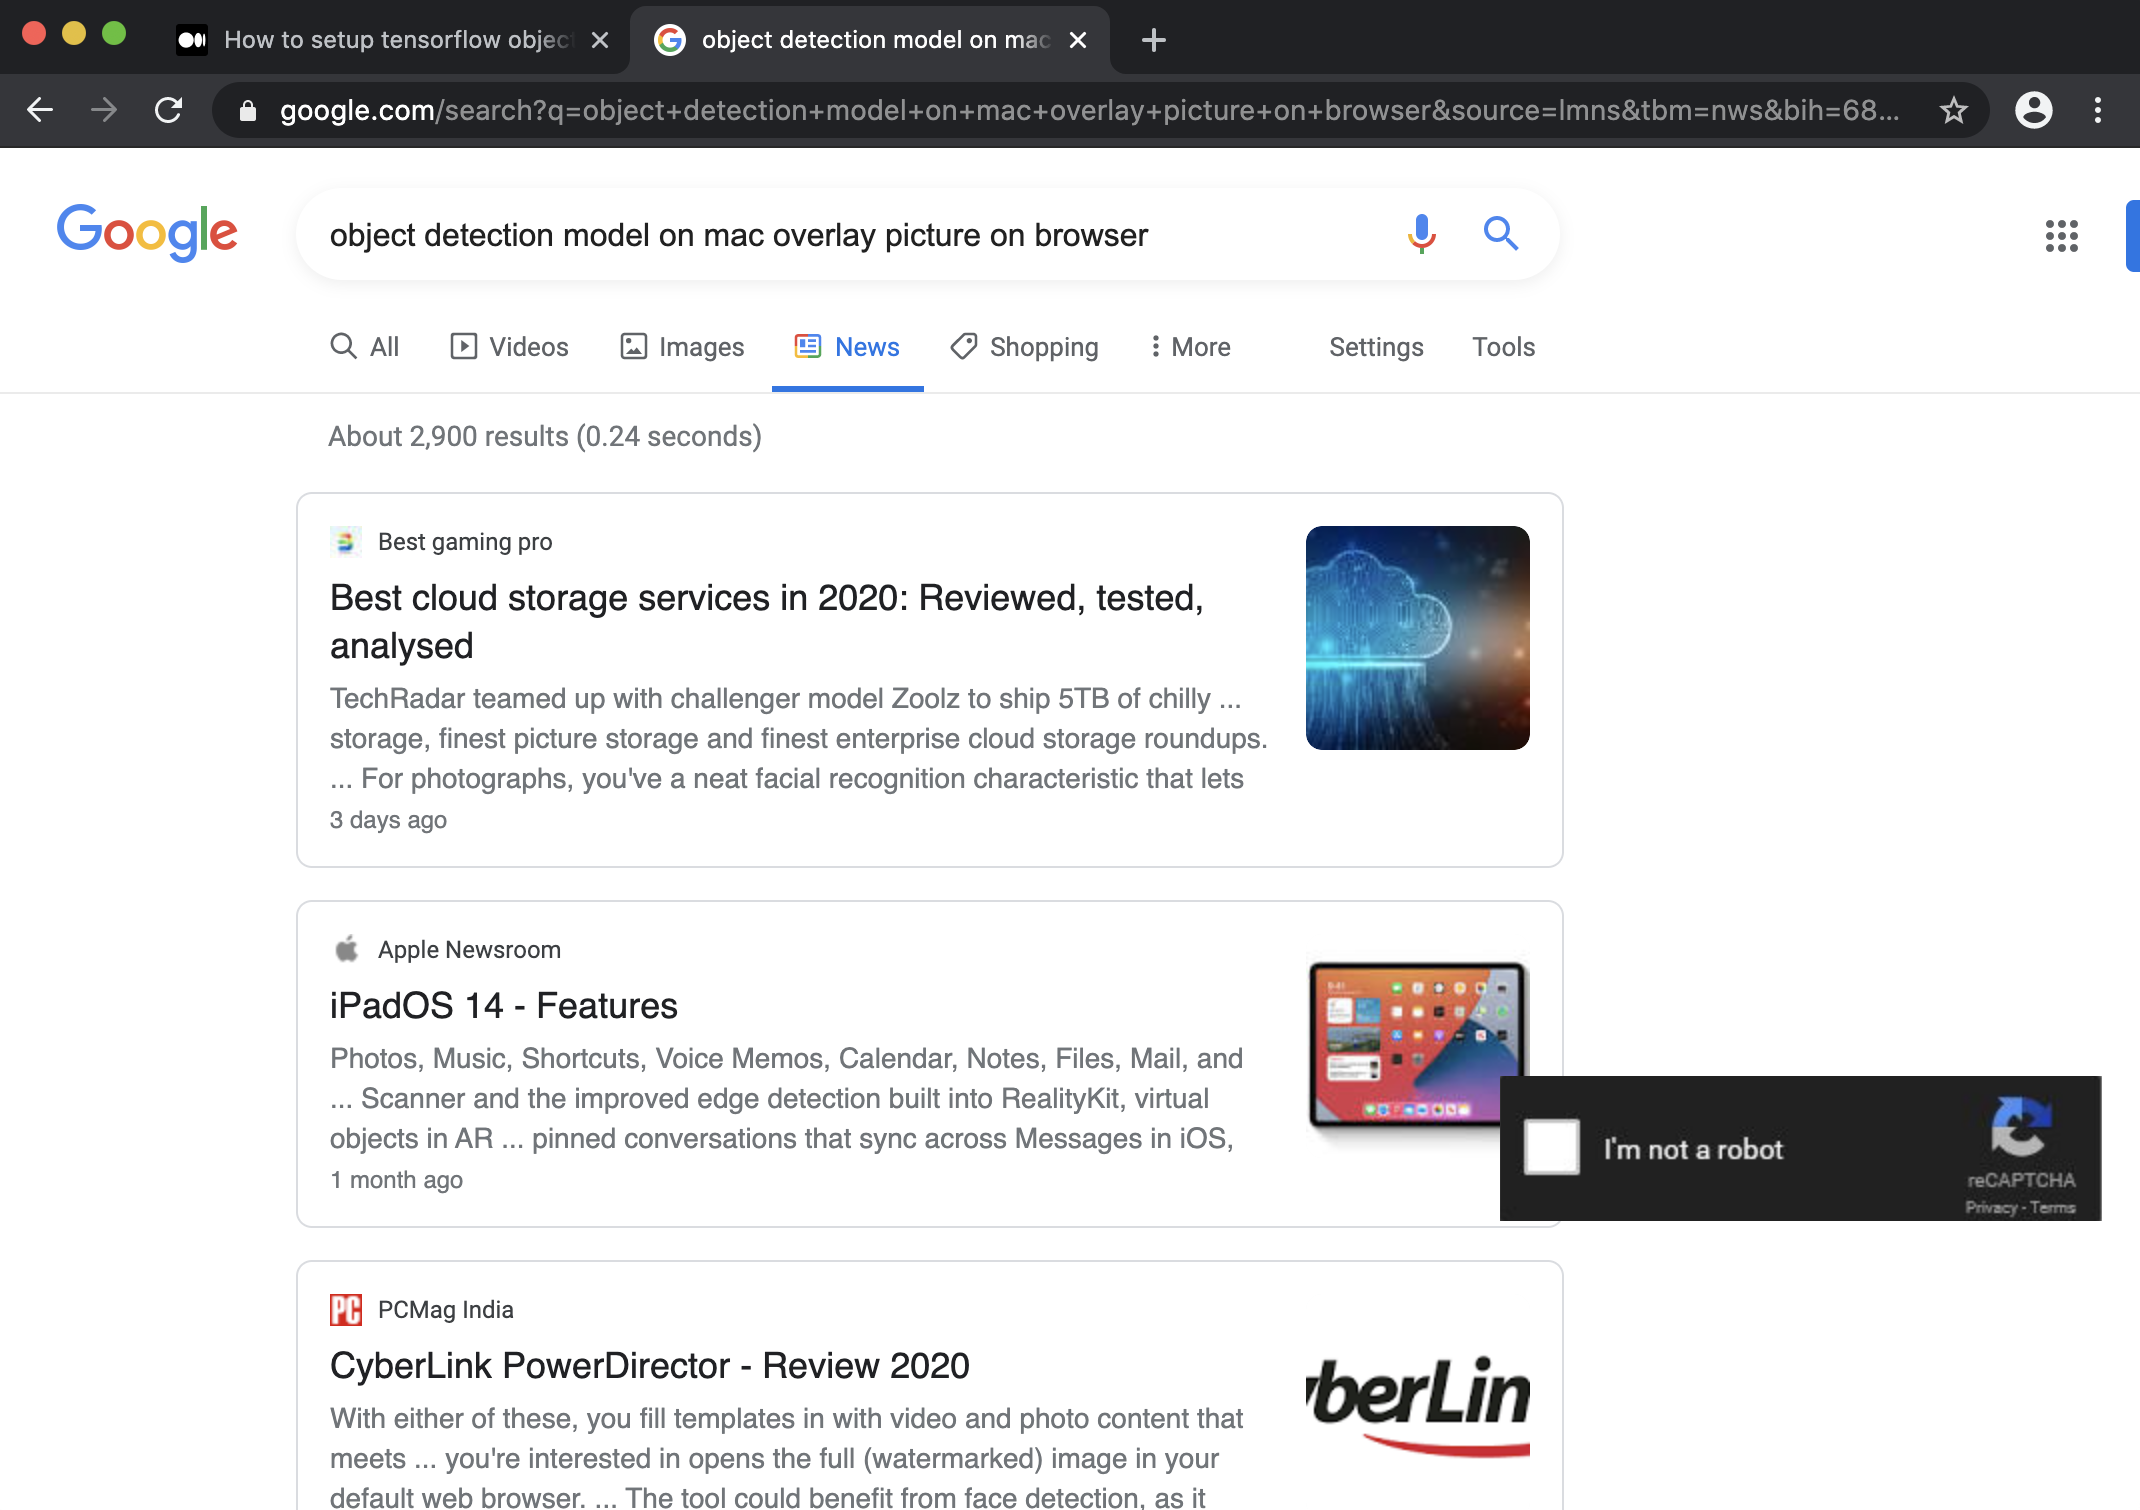captcha: (1487, 1067, 2117, 1226)
